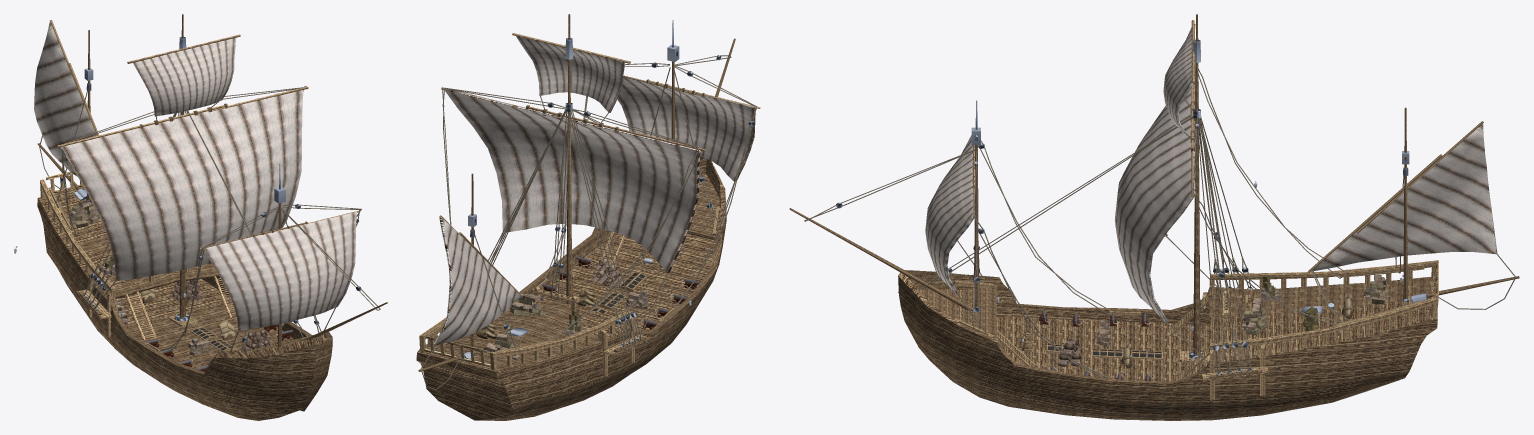
File: ship04.fbx
The picture shows the model from 3 angles, left to right: view 1: azimuth 30°, elevation 25°; view 2: azimuth 150°, elevation 25°; view 3: azimuth 270°, elevation 25°; orthographic projection. The views are drawn at different scales.
Visible parts, largest first — view 1: polySurface729, polySurface757, polySurface799, polySurface769, polySurface750; view 2: polySurface729, polySurface800, polySurface769, polySurface742, polySurface799, polySurface759, pasted__Wooden_box_v1_LD1square9, polySurface739; view 3: polySurface729.
Part boxes in pixels (bbox=[...]): polySurface729: bbox=[34, 14, 387, 420]; polySurface757: bbox=[125, 291, 156, 340]; polySurface799: bbox=[68, 200, 99, 227]; polySurface769: bbox=[242, 329, 271, 351]; polySurface750: bbox=[172, 279, 202, 302]; polySurface729: bbox=[416, 14, 760, 420]; polySurface800: bbox=[510, 294, 546, 316]; polySurface769: bbox=[592, 258, 621, 287]; polySurface742: bbox=[640, 279, 700, 329]; polySurface799: bbox=[483, 333, 521, 360]; polySurface759: bbox=[600, 231, 625, 262]; pasted__Wooden_box_v1_LD1square9: bbox=[625, 290, 648, 309]; polySurface739: bbox=[526, 256, 592, 300]; polySurface729: bbox=[789, 14, 1519, 420].
Size of the model in its own units: 45.42 by 55.29 by 96.18.
